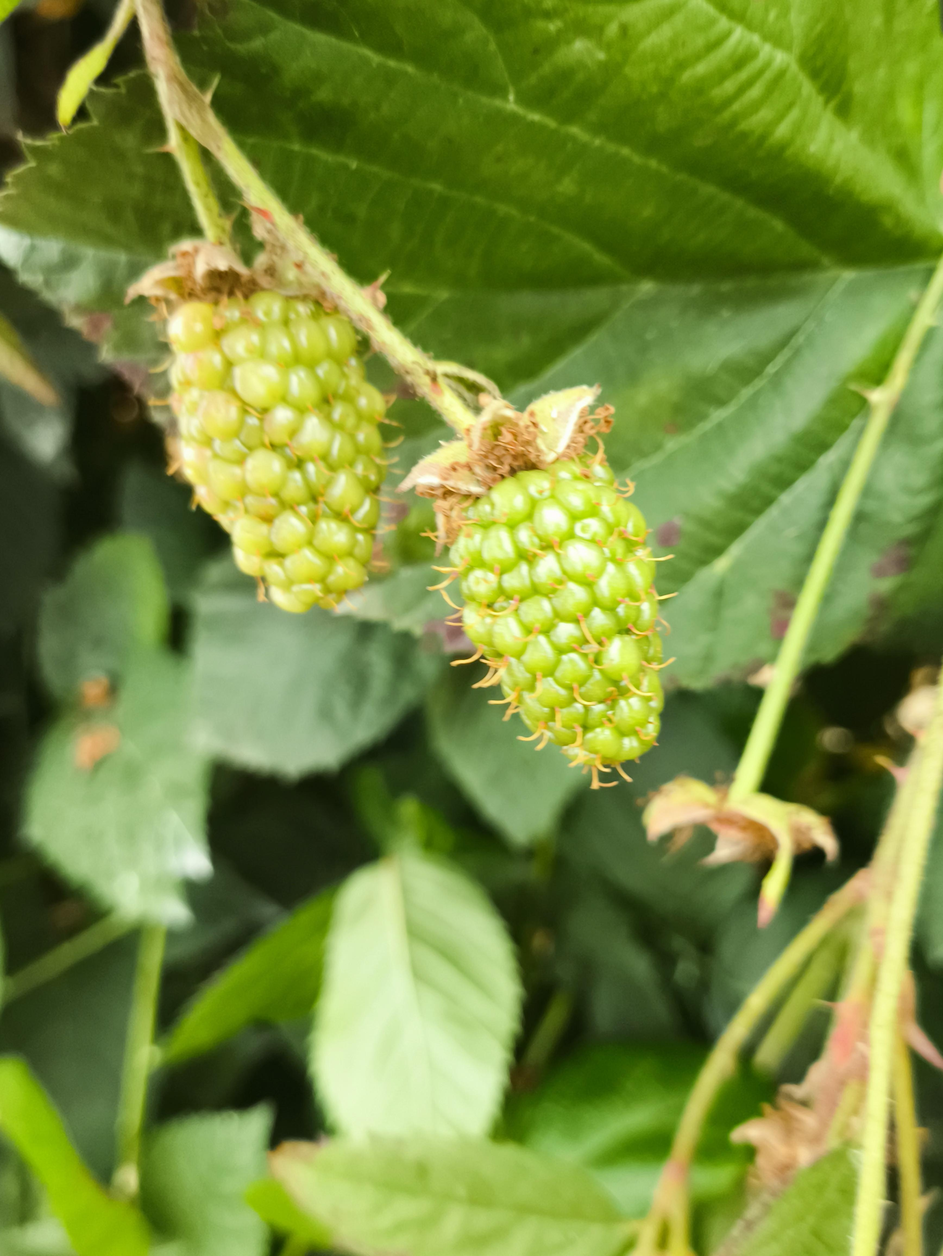verde: (407, 388, 663, 787), (167, 292, 383, 599)
